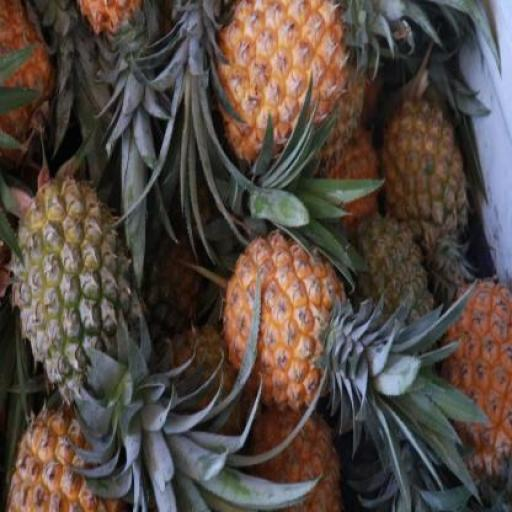------------------------------: (14, 168, 146, 390), (382, 89, 468, 261)
Pineapple - v8 v1: (218, 0, 360, 162), (220, 221, 342, 405), (8, 407, 132, 512), (446, 260, 510, 450)
